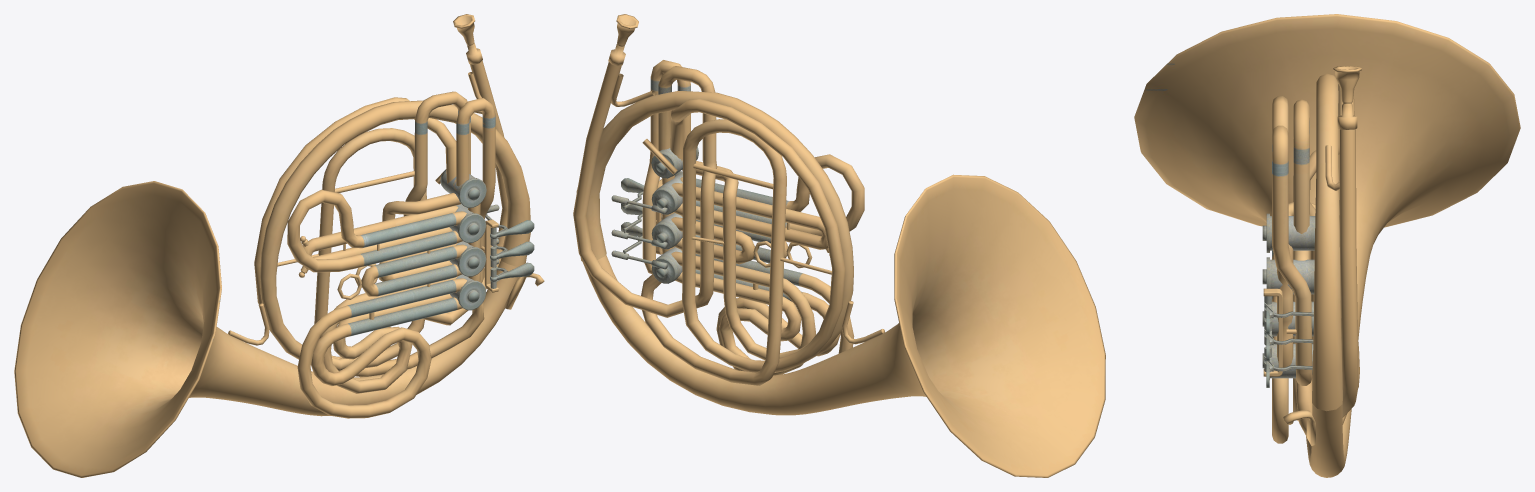
Rendered from FrenchHorn.fbx.
3 views of the same model, side by side, from view 1: azimuth 30°, elevation 25°; view 2: azimuth 150°, elevation 25°; view 3: azimuth 270°, elevation 25° (orthographic). The views are drawn at different scales.
Parts seen in each view (by area): view 1: Tube_main_low, Tubes_low, Press_low, Circle_004_low, Circle_001_low, Circle_003_low, Circle_002_low, Truc_low; view 2: Tube_main_low, Tubes_low, Press_low, Truc_low, Circle_001_low, Circle_002_low, Circle_003_low, Circle_004_low; view 3: Tube_main_low, Tubes_low, Truc_low, Circle_004_low, Press_low, Circle_001_low, Cube_002_low, Circle_003_low, Circle_002_low.
Part boxes in pixels (x1=…): Tube_main_low: x1=14, y1=181, x2=519, y2=477; Tubes_low: x1=228, y1=60, x2=530, y2=418; Press_low: x1=484, y1=219, x2=534, y2=292; Circle_004_low: x1=440, y1=169, x2=486, y2=207; Circle_001_low: x1=449, y1=204, x2=486, y2=242; Circle_003_low: x1=450, y1=274, x2=486, y2=310; Circle_002_low: x1=449, y1=241, x2=486, y2=276; Truc_low: x1=453, y1=14, x2=482, y2=64; Tube_main_low: x1=582, y1=174, x2=1105, y2=477; Tubes_low: x1=573, y1=60, x2=884, y2=385; Press_low: x1=621, y1=178, x2=662, y2=254; Truc_low: x1=608, y1=14, x2=638, y2=66; Circle_001_low: x1=651, y1=171, x2=682, y2=214; Circle_002_low: x1=651, y1=213, x2=682, y2=249; Circle_003_low: x1=651, y1=247, x2=682, y2=283; Circle_004_low: x1=651, y1=147, x2=698, y2=178; Tube_main_low: x1=1134, y1=14, x2=1520, y2=477; Tubes_low: x1=1272, y1=73, x2=1359, y2=443; Truc_low: x1=1333, y1=66, x2=1361, y2=129; Circle_004_low: x1=1262, y1=213, x2=1315, y2=252; Press_low: x1=1263, y1=288, x2=1282, y2=387; Circle_001_low: x1=1262, y1=257, x2=1314, y2=294; Cube_002_low: x1=1283, y1=410, x2=1315, y2=445; Circle_003_low: x1=1262, y1=343, x2=1313, y2=379; Circle_002_low: x1=1262, y1=301, x2=1313, y2=336.
Size of the model in its own units: 56.89 by 40.76 by 31.71.
1 material, 1 textured.
